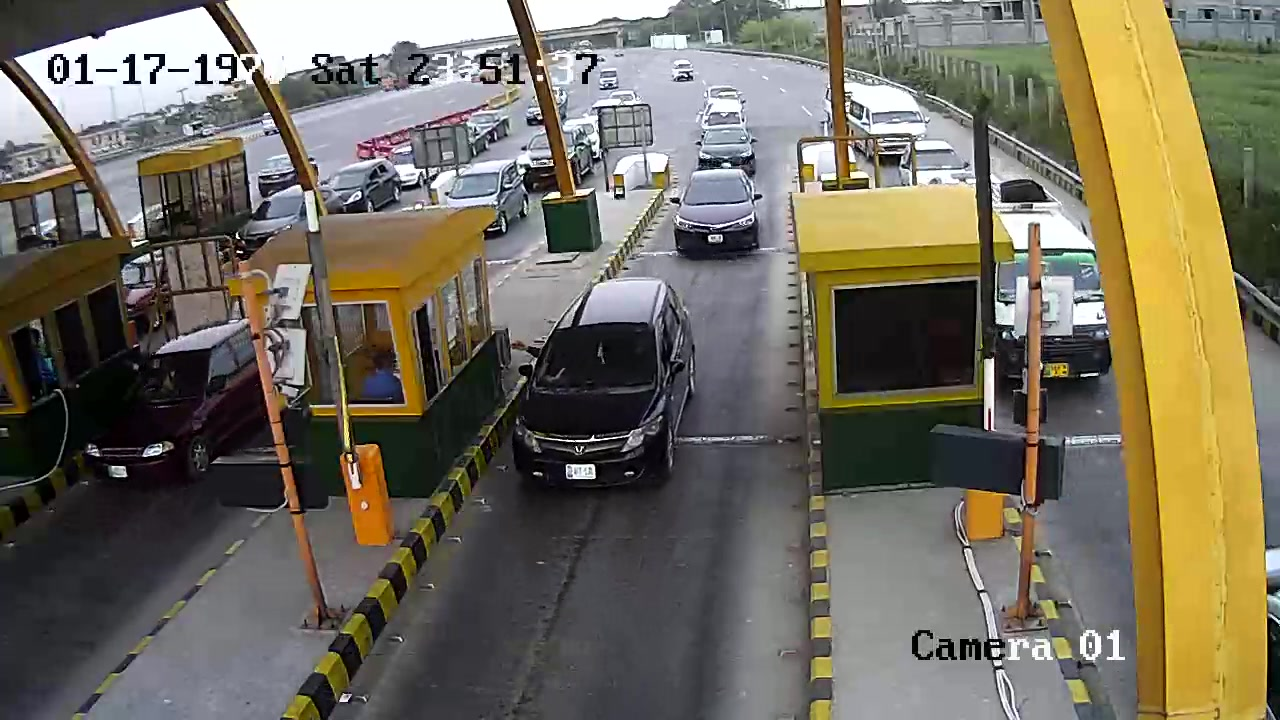F1: (500, 270, 711, 500)
